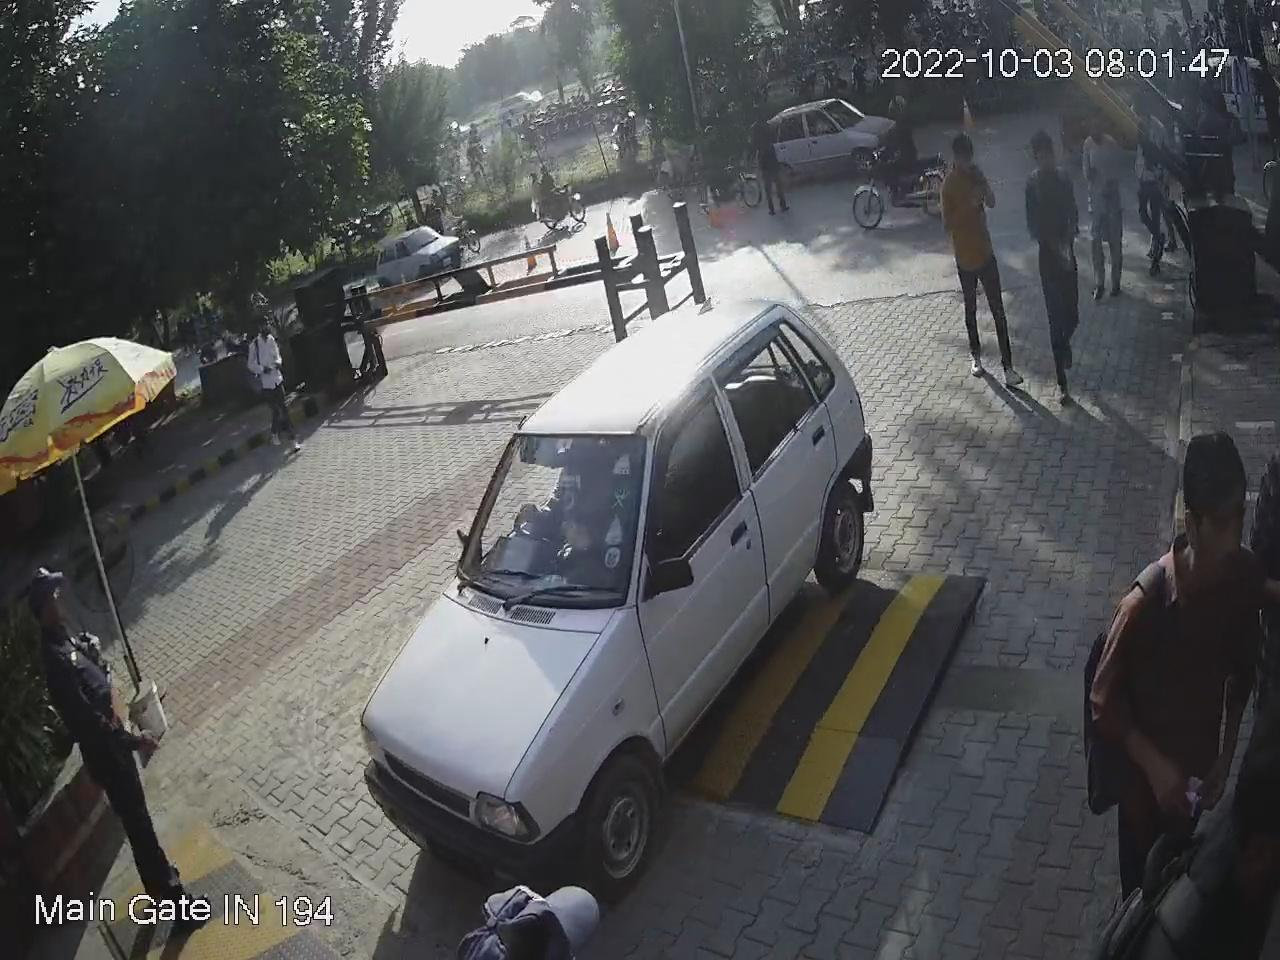windshield: (456, 417, 643, 602)
